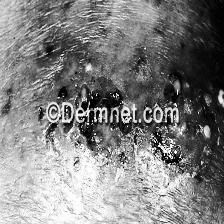Benign Marking or Mole: (72, 85, 169, 145), (207, 82, 224, 146)
